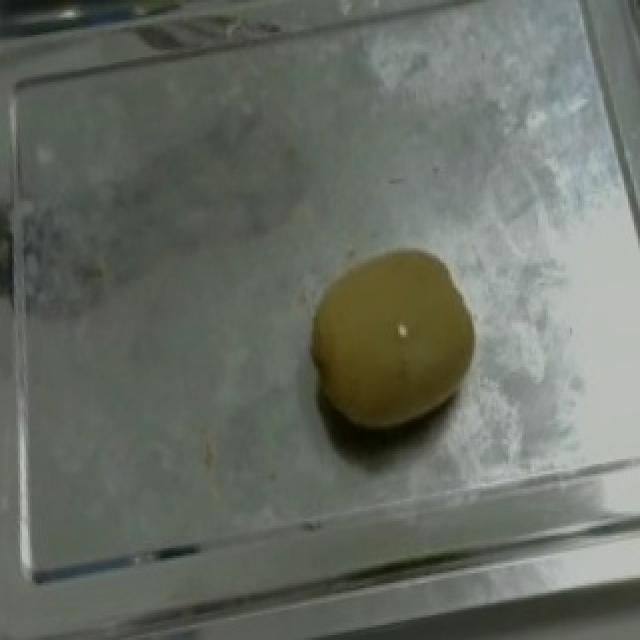Fruit: (290, 226, 500, 464)
